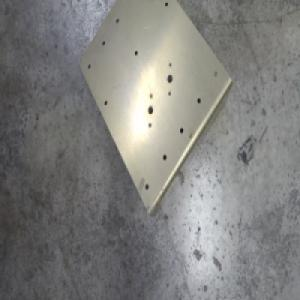MetalSheet: (77, 0, 236, 218)
